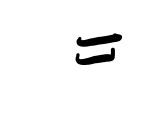eqv: (69, 28, 125, 67)
